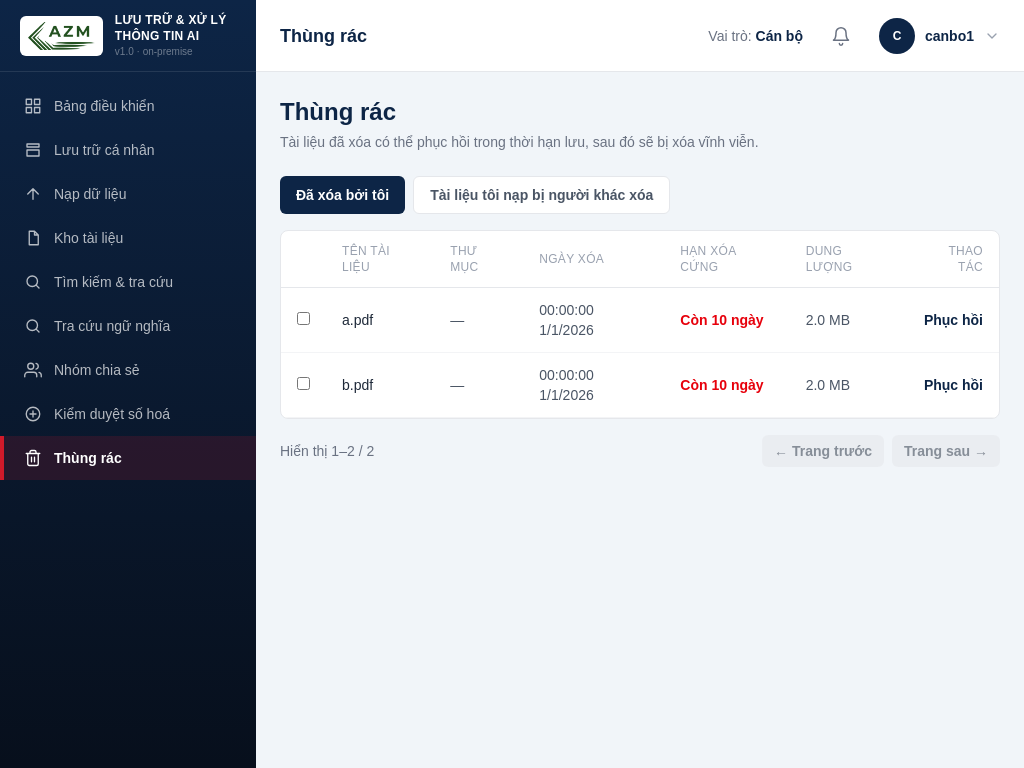
Test: TrashPage › bulk-restores selected rows, shows the report, and reloads the list (AC-9)
The width and height of the screenshot is (1024, 768).
Expected: the text "a.pdf" is shown, top-left (326, 288), bottom-right (434, 352)
Click the checkbox named "Chọn a.pdf". click: (304,318)
box: top-left (297, 312), bottom-right (310, 325)
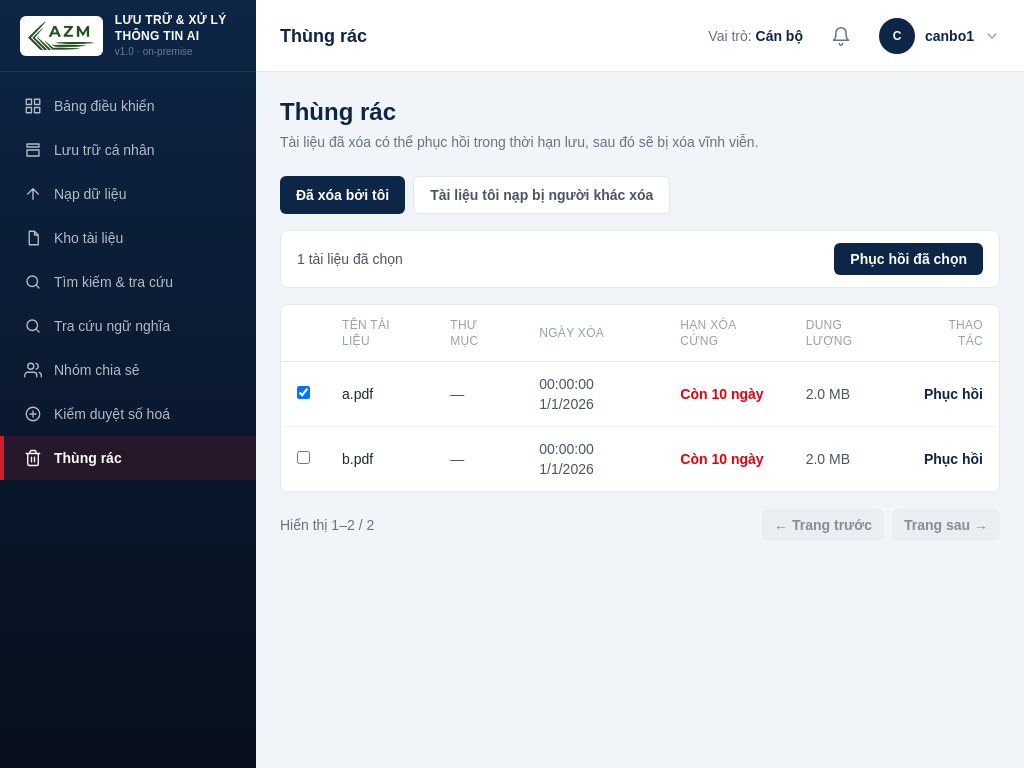
Click the checkbox named "Chọn b.pdf". click: (304,458)
box: top-left (297, 451), bottom-right (310, 464)
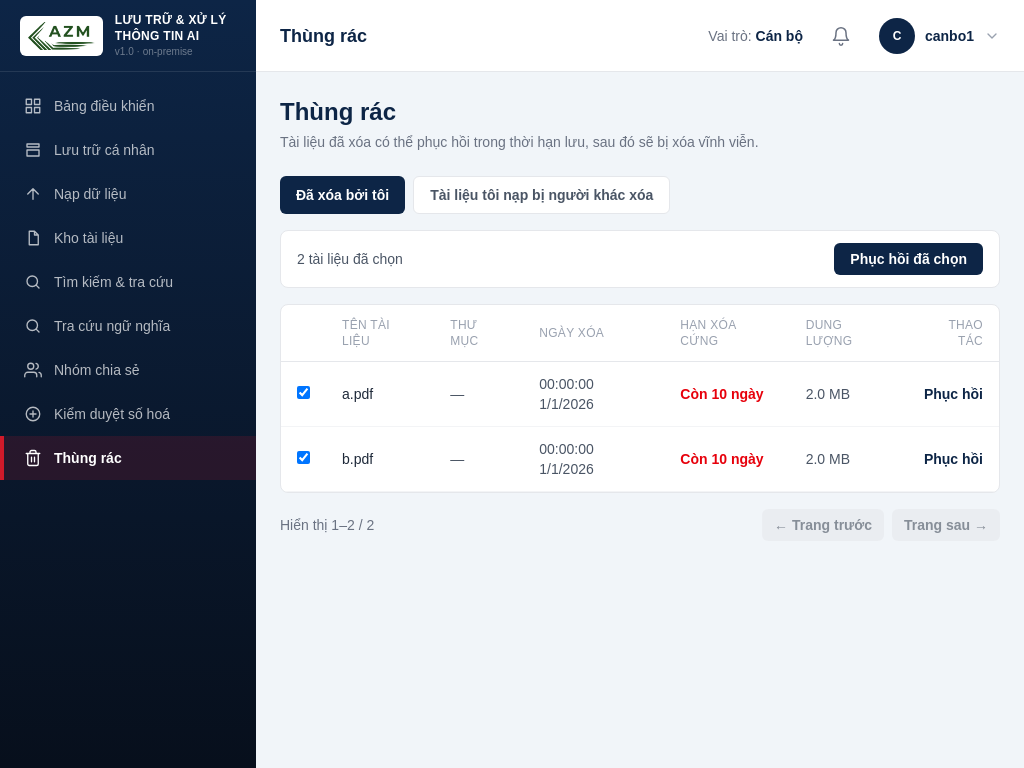
Click the button "Phục hồi đã chọn". click: (909,259)
box: top-left (834, 243), bottom-right (983, 275)
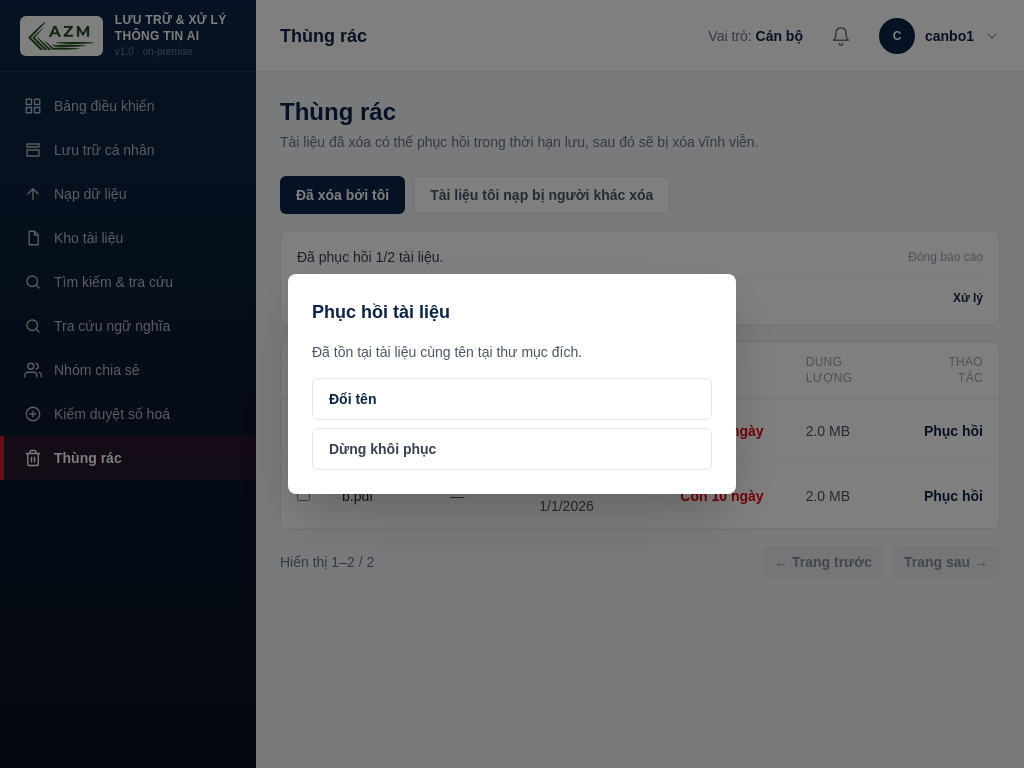
Result: the text "Đã phục hồi 1/2 tài liệu." is shown at top-left (297, 247), bottom-right (443, 267)
Result: the text "doc-b — Xung đột (NAME_CONFLICT)" is shown at top-left (297, 288), bottom-right (541, 308)
